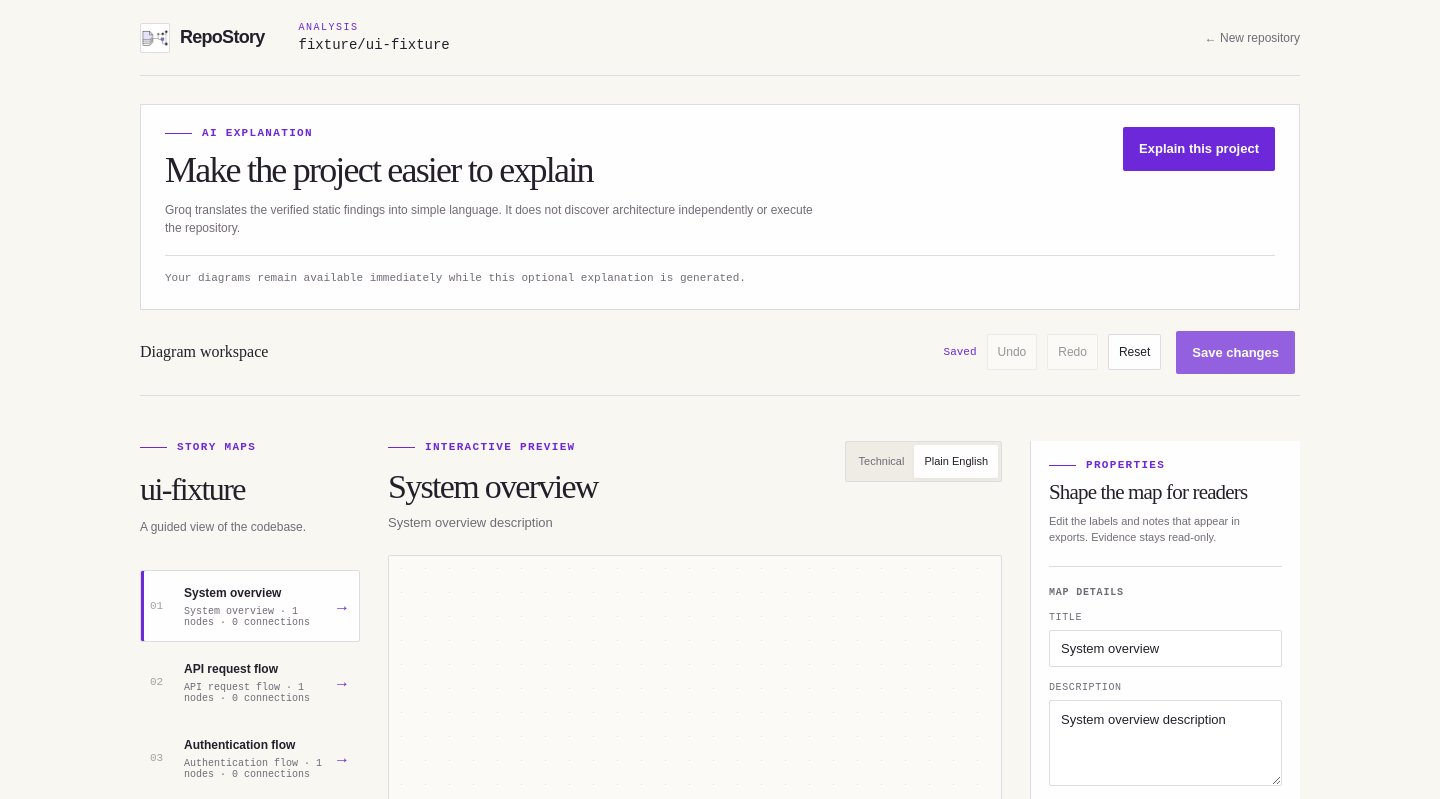
RepoAnalysis diagram navigation › lists each supported diagram type and switches the preview
expect the button "System overview" is shown: met, box 140,570 -> 360,642
expect the button "API request flow" is shown: met, box 140,646 -> 360,718
Step 1. Click the button "Authentication flow" → point(250, 758), box 140,722 -> 360,794
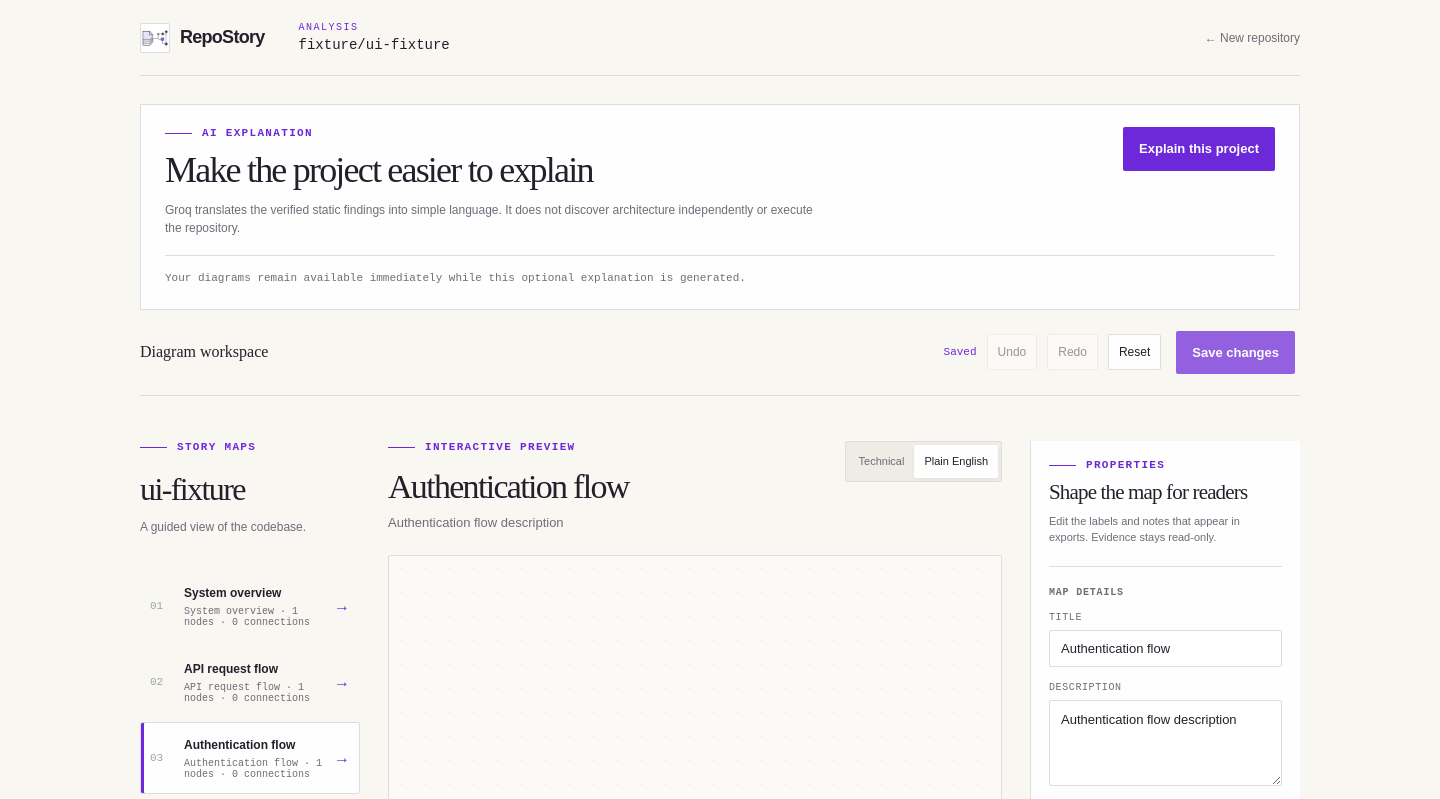
expect the heading "Authentication flow" is shown: met, box 388,468 -> 629,506
